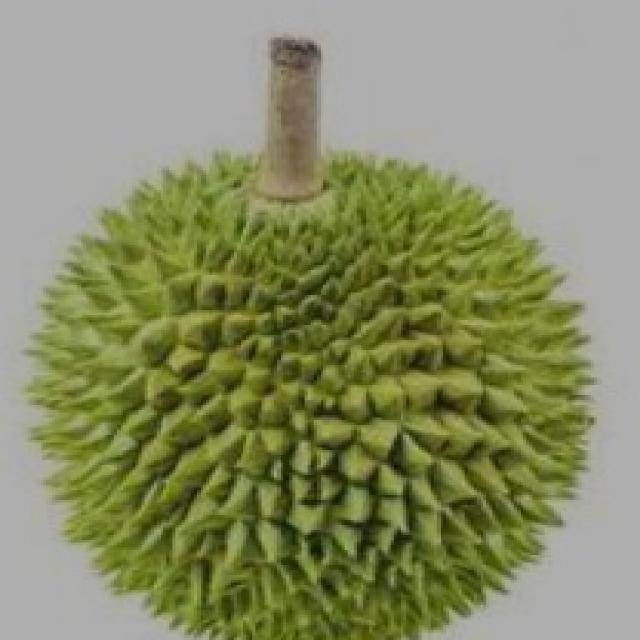fruit: (3, 287, 384, 640), (301, 272, 640, 639)
